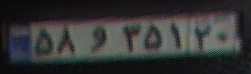character: (55, 25, 81, 58), (120, 22, 144, 54), (143, 22, 165, 55), (32, 28, 56, 58), (88, 25, 111, 55), (194, 23, 214, 53), (168, 20, 185, 52), (214, 26, 232, 49)
